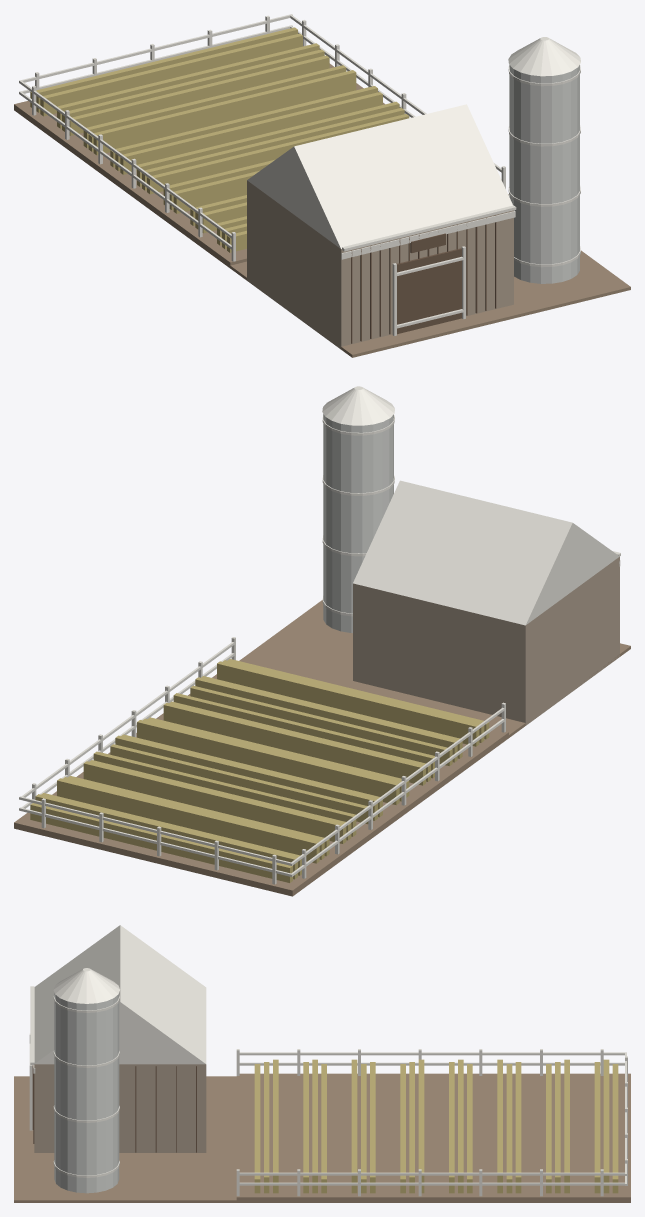
Rendered from farm_2x4.glb.
The picture shows the model from 3 angles, top to bottom: view 1: azimuth 30°, elevation 25°; view 2: azimuth 150°, elevation 25°; view 3: azimuth 270°, elevation 25°; orthographic projection. The views are drawn at different scales.
Parts seen in each view (by area): view 1: farm_2x4_yard; view 2: farm_2x4_yard; view 3: farm_2x4_yard.
Part boxes in pixels (x1=…): farm_2x4_yard: x1=14, y1=14, x2=630, y2=357; farm_2x4_yard: x1=14, y1=386, x2=630, y2=896; farm_2x4_yard: x1=14, y1=925, x2=630, y2=1202.
Size of the model in its own units: 14.5 by 11.6 by 30.5.
